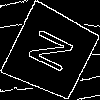N: (26, 26, 84, 80)
